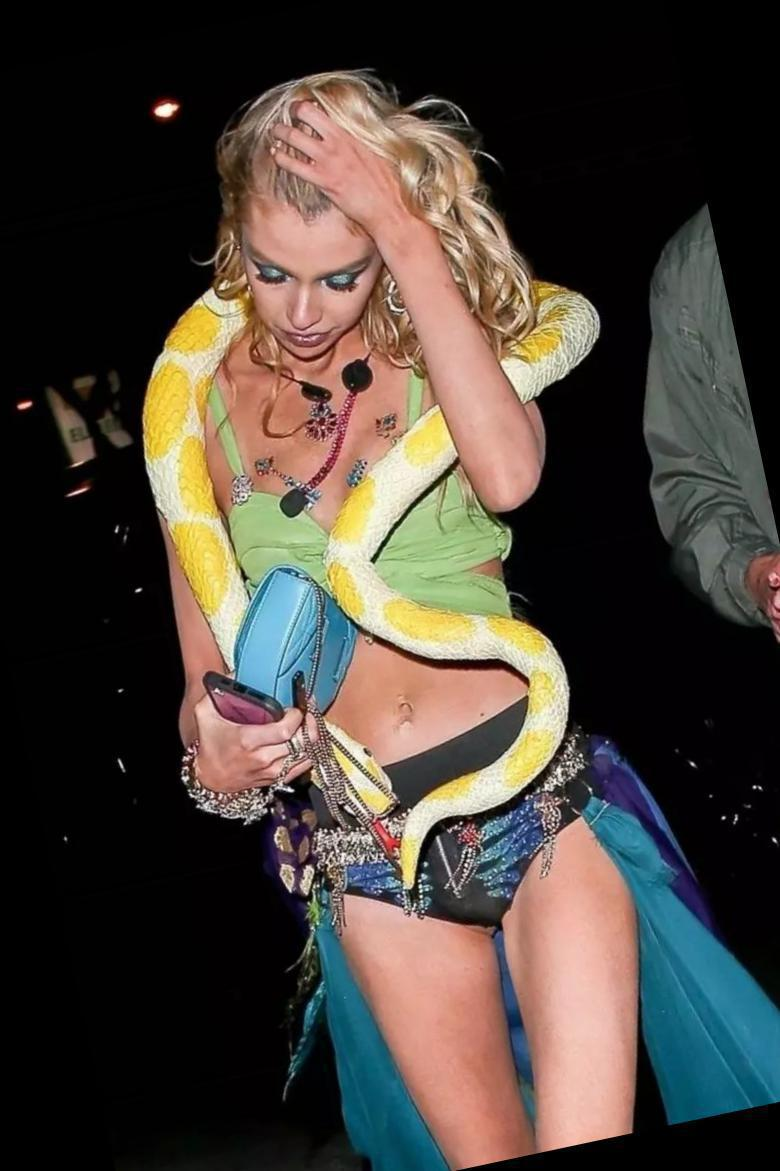Drunk: (238, 208, 367, 355)
